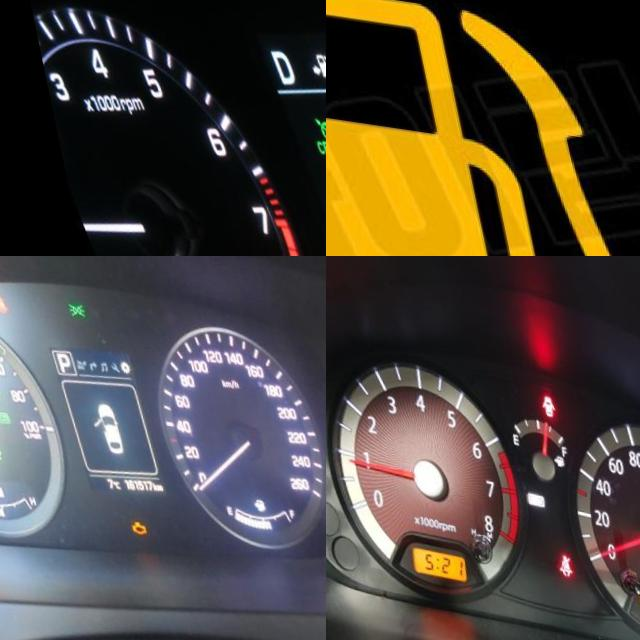Doors: (529, 383, 547, 408)
Low fuel level: (326, 0, 624, 256)
SideLamp: (59, 292, 80, 311)
